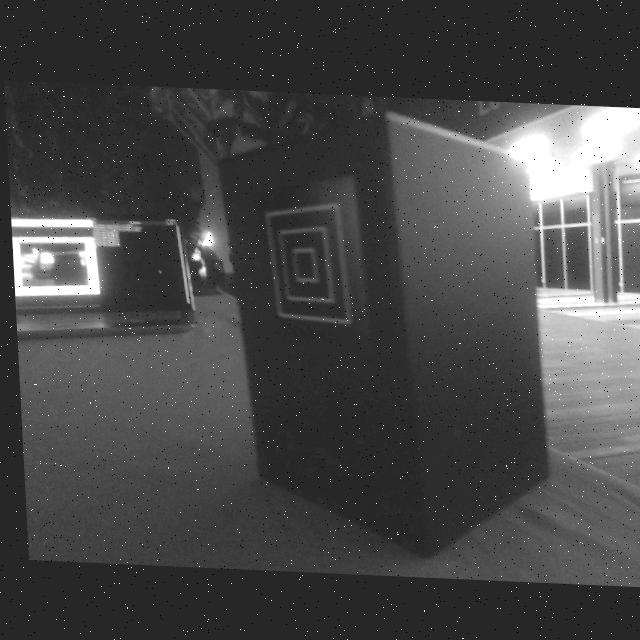BULLSEYE: (264, 201, 348, 322)
